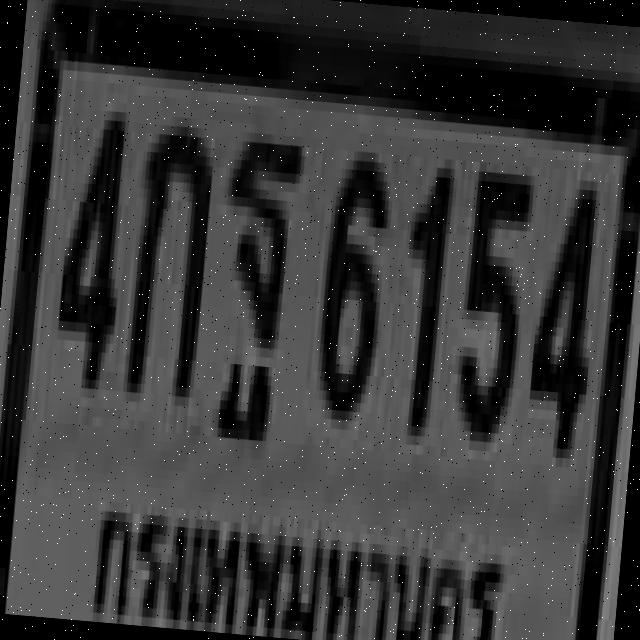1: (390, 156, 452, 427)
10GorGai: (123, 114, 213, 388)
25ThorThan: (208, 126, 302, 410)
4: (50, 98, 130, 380), (522, 168, 602, 450)
5: (449, 162, 532, 434)
6: (310, 140, 390, 412)
Bangkok: (83, 482, 511, 640)
